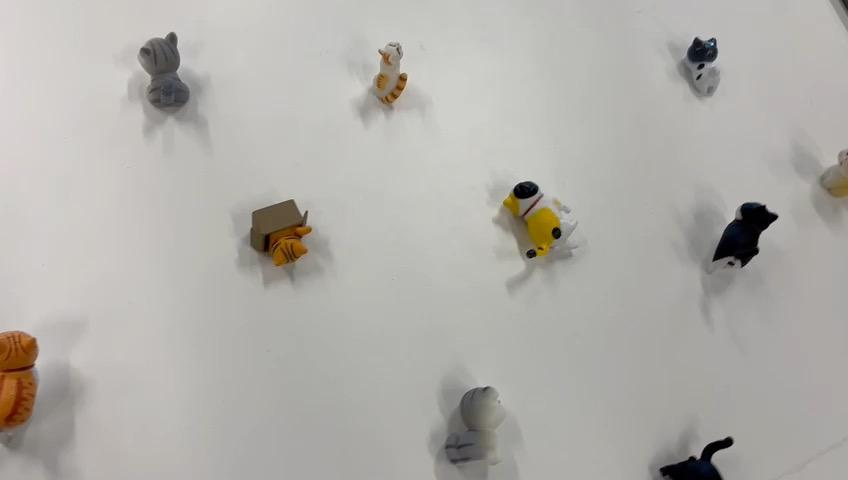pet: (431, 369, 542, 480), (473, 169, 590, 271), (706, 171, 784, 289), (3, 299, 61, 445), (353, 19, 430, 128), (238, 181, 325, 274), (138, 11, 205, 123), (676, 21, 739, 111)
